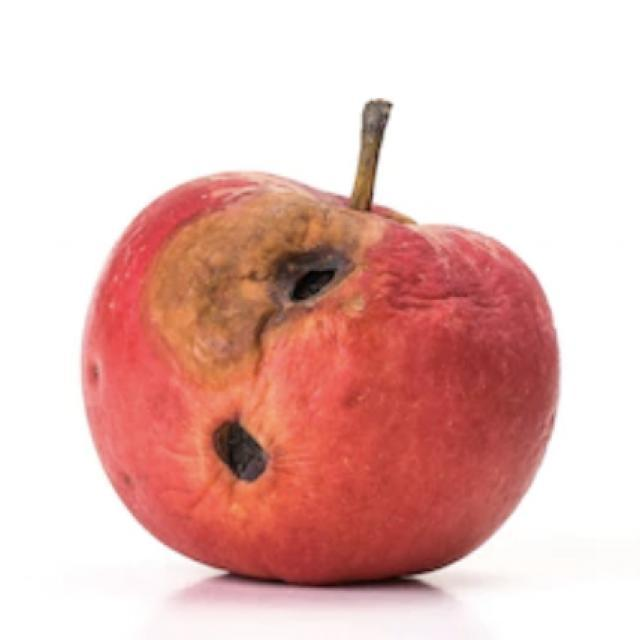Rotten: (120, 165, 577, 595)
